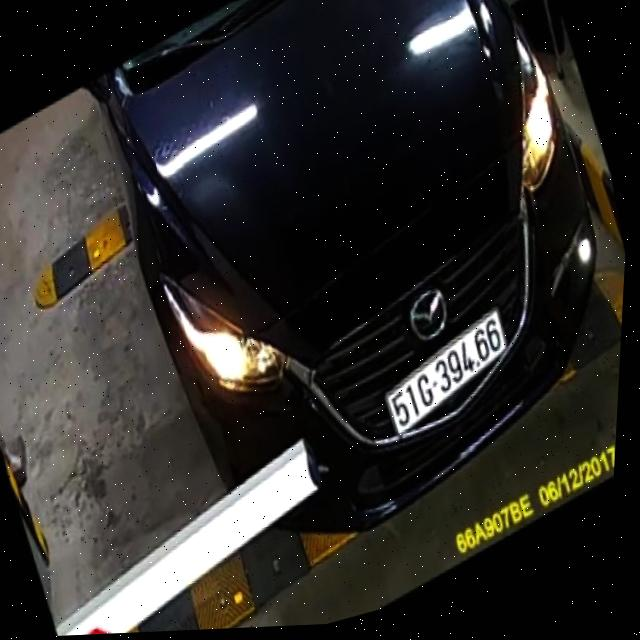car: (52, 0, 640, 585)
plate: (373, 306, 528, 440)
